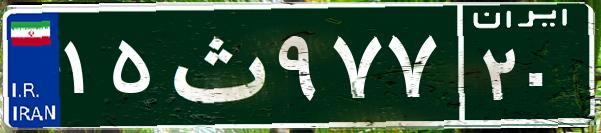0: (525, 38, 570, 115)
1: (57, 26, 110, 107)
2: (475, 38, 525, 113)
5: (110, 28, 158, 105)
7: (385, 28, 445, 110), (330, 28, 385, 110)
9: (273, 28, 330, 110)
ث: (158, 15, 273, 115)
